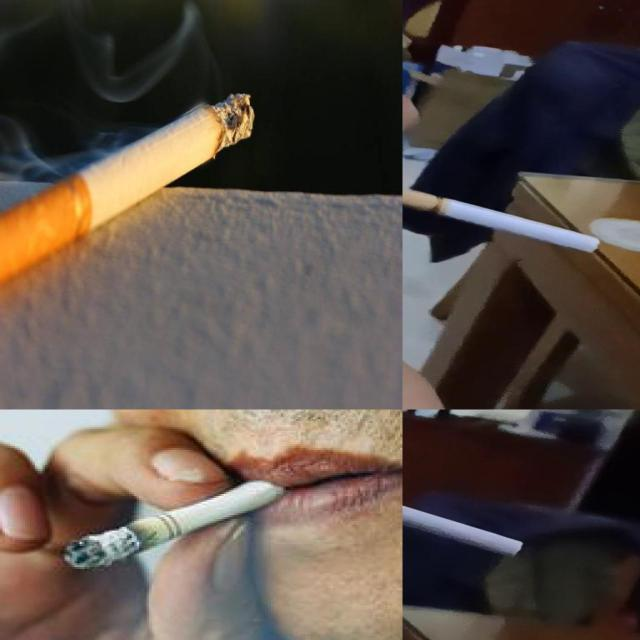smoking: (0, 91, 255, 286), (57, 479, 298, 571), (402, 182, 606, 256), (402, 476, 528, 560)
